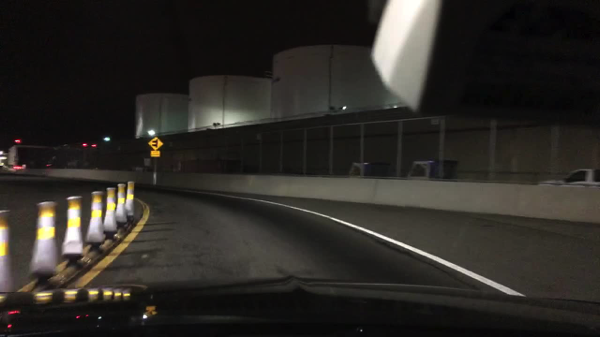car: (540, 167, 599, 185), (3, 165, 22, 172)
traffic sign: (149, 137, 164, 151), (150, 151, 161, 157)
